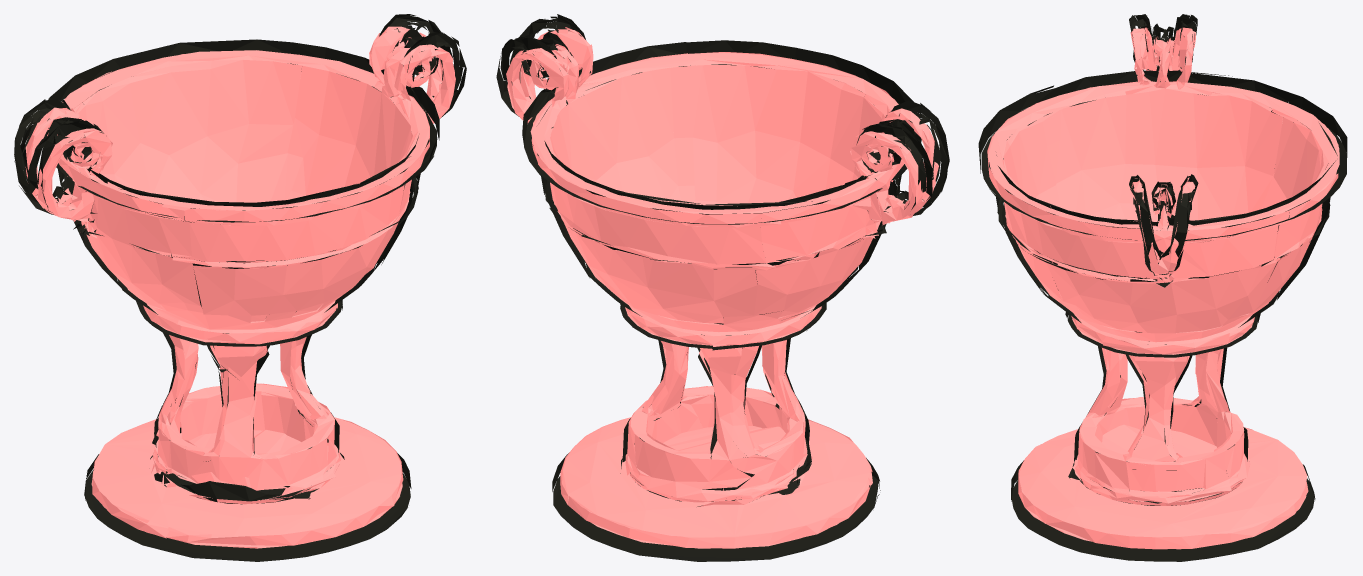
Rendered from df_v2_torch_prop_d_a.glb.
3 renders of one model, left to right at view 1: azimuth 30°, elevation 25°; view 2: azimuth 150°, elevation 25°; view 3: azimuth 270°, elevation 25°, orthographic. The views are drawn at different scales.
Visible parts, largest first — view 1: torch_prop_d_mesh_01, torch_prop_d_mesh_01_ink_outline; view 2: torch_prop_d_mesh_01, torch_prop_d_mesh_01_ink_outline; view 3: torch_prop_d_mesh_01, torch_prop_d_mesh_01_ink_outline.
Part boxes in pixels (box(x1,y1,x2,y2)): torch_prop_d_mesh_01: box(25, 26, 455, 548); torch_prop_d_mesh_01_ink_outline: box(14, 14, 466, 561); torch_prop_d_mesh_01: box(506, 27, 938, 548); torch_prop_d_mesh_01_ink_outline: box(496, 14, 949, 561); torch_prop_d_mesh_01: box(987, 27, 1339, 549); torch_prop_d_mesh_01_ink_outline: box(978, 14, 1347, 561).
Bounding box in the file's own units: 1.05 × 0.9861 × 0.8288.
